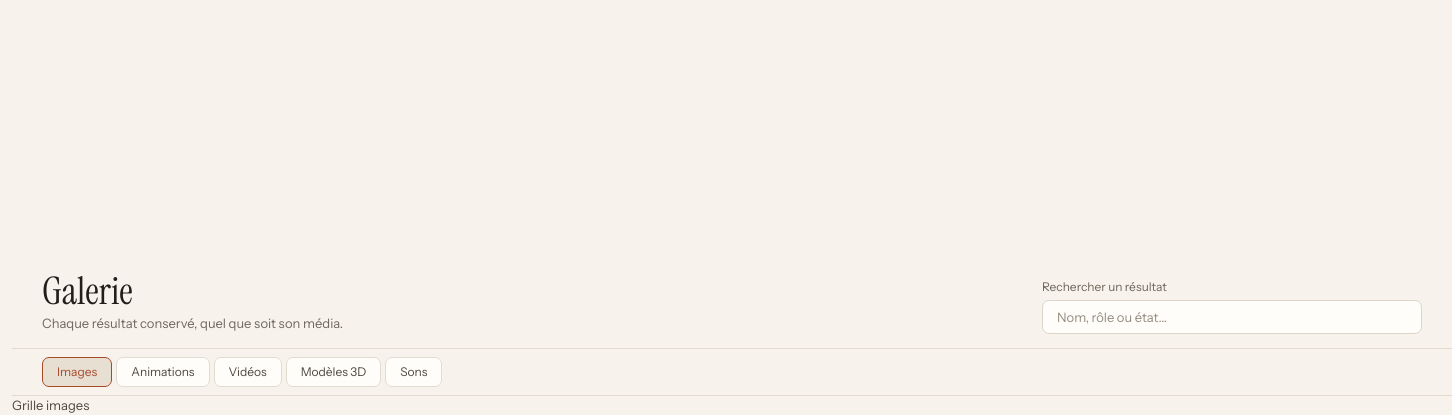
Test case: les cartes de sons demandent une forme d’onde sans créer de lecteur
(page scrolled)
Click the button "Sons". click: (414, 372)
box: [385,356,442,386]
(page scrolled)
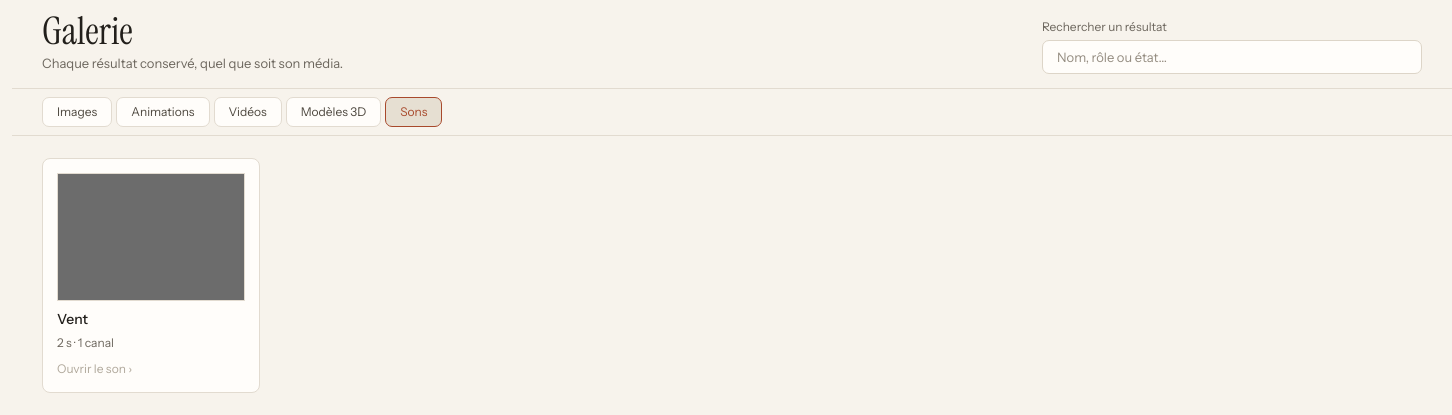
Expected: the heading "Vent" is shown, [57,310,88,328]
